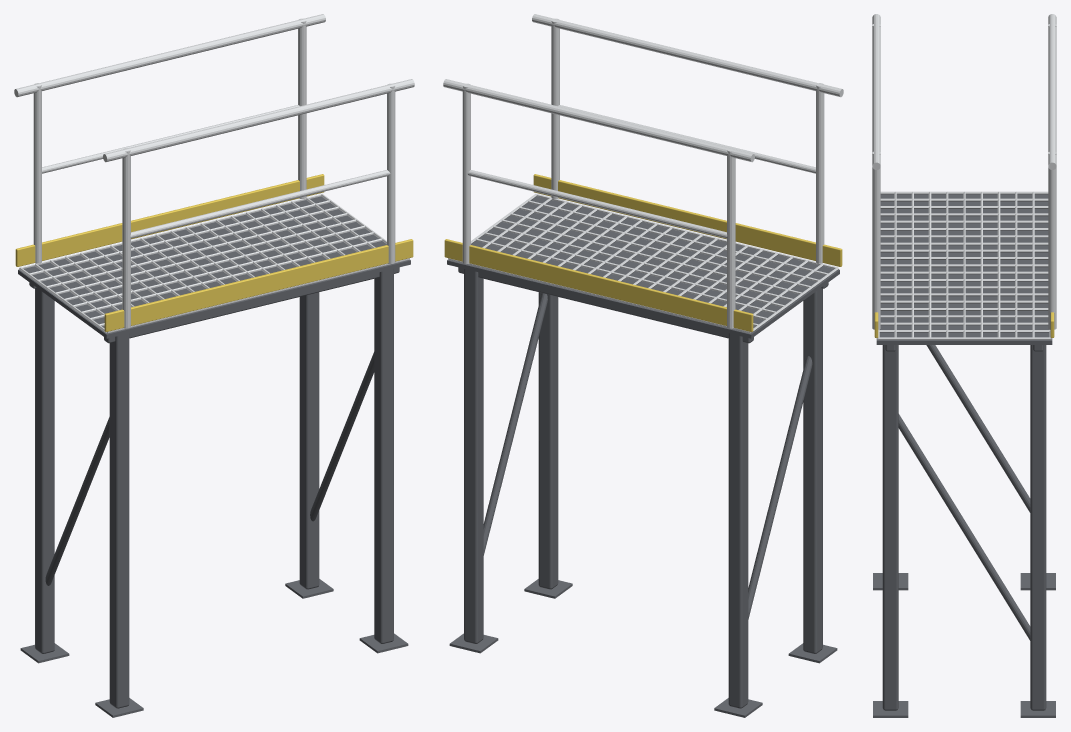
The model's file is public-aquarium-and-marine-centre-service-catwalk-sect-7a52bad0__34185.glb.
The picture shows the model from 3 angles, left to right: view 1: azimuth 30°, elevation 25°; view 2: azimuth 150°, elevation 25°; view 3: azimuth 270°, elevation 25°; orthographic projection.
Visible parts, largest first — view 1: service-catwalk-section; view 2: service-catwalk-section; view 3: service-catwalk-section.
Boxes of the visible parts, left/top/right/bottom form: service-catwalk-section: left=14, top=14, right=414, bottom=717; service-catwalk-section: left=443, top=14, right=843, bottom=717; service-catwalk-section: left=872, top=14, right=1056, bottom=717.
Size of the model in its own units: 2 by 3.5 by 1.05.
